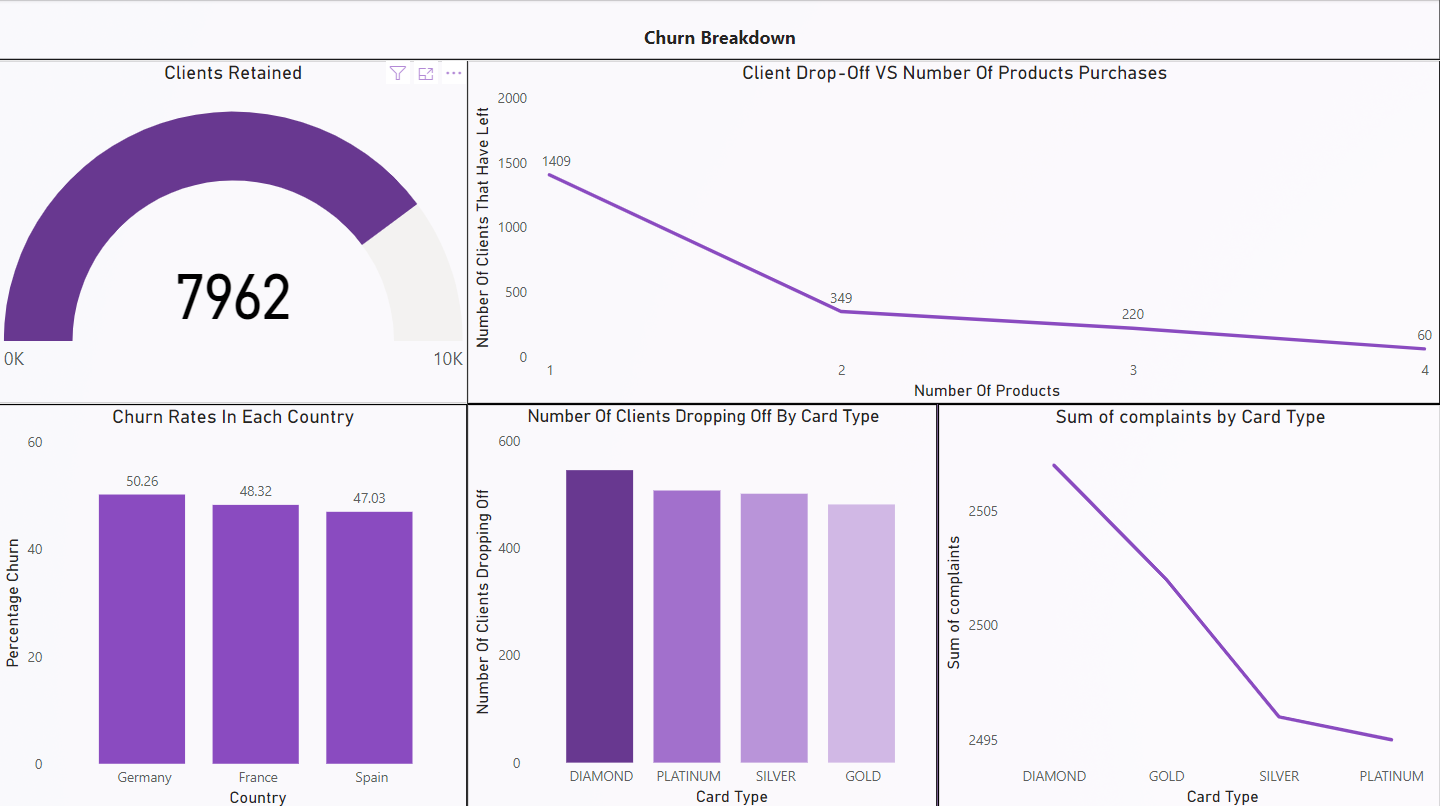

The page's visual inventory and layout, read from the dashboard file:
{"tool":"powerbi","page":{"name":"Churn Breakdown","canvas":[1280,720],"ordinal":1},"visuals":[{"type":"textbox","box":[0,0,1280,54],"z":0},{"type":"lineClusteredColumnComboChart","title":"Number Of Clients Dropping Off By Card Type","fields":{"Category":["store_sales card_vs_lost_customers.card_type"],"Y2":["Sum(store_sales complaints_per_card_type.complaints)"],"Y":["Sum(store_sales card_vs_lost_customers.clients_leaving)"]},"box":[416.7,359,862.8,360],"z":0,"group":"g1"},{"type":"group","id":"g1","title":"Group 1","box":[0,54,1280,666],"z":1000},{"type":"lineChart","title":"Client Drop-Off VS Number Of Products Purchases","fields":{"Category":["store_sales no_of_products_vs_drop_off.no_of_products"],"Y":["Sum(store_sales no_of_products_vs_drop_off.Number Of People That Have Left)"]},"box":[417,54,863,305],"z":1000,"group":"g1"},{"type":"columnChart","title":"Churn Rates In Each Country","fields":{"Y":["Sum(store_sales churn_rate_per_country.churn_rate)"],"Category":["store_sales churn_rate_per_country.Geography"]},"box":[0,359,417,361],"z":2000,"group":"g1"},{"type":"gauge","title":"Clients Retained","fields":{"MaxValue":["Sum(store_sales churn.total_customers)"],"Y":["Sum(store_sales churn.still_a_customer)"]},"box":[0,54,417,305],"z":3000,"group":"g1"}]}

Visuals, with their boxes in screenshot pixels (x1, y1, x2, y2), scaled from the page's 1280x720 canvas onto the 1440x806 screenshot:
textbox: {"x1": 0, "y1": 0, "x2": 1439, "y2": 60}
"Number Of Clients Dropping Off By Card Type" lineClusteredColumnComboChart: {"x1": 469, "y1": 402, "x2": 1439, "y2": 805}
"Group 1" group: {"x1": 0, "y1": 60, "x2": 1439, "y2": 805}
"Client Drop-Off VS Number Of Products Purchases" lineChart: {"x1": 469, "y1": 60, "x2": 1439, "y2": 402}
"Churn Rates In Each Country" columnChart: {"x1": 0, "y1": 402, "x2": 469, "y2": 805}
"Clients Retained" gauge: {"x1": 0, "y1": 60, "x2": 469, "y2": 402}
